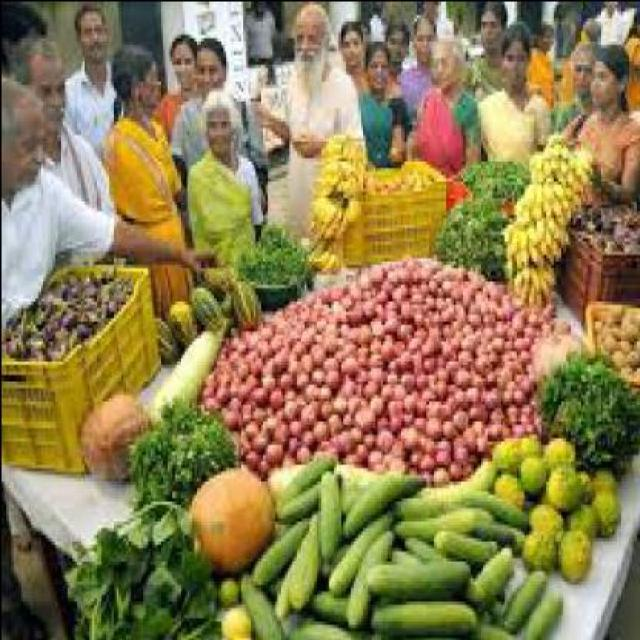BIODEGRADABLE: (66, 493, 220, 636), (200, 327, 349, 450), (511, 123, 594, 300), (396, 310, 496, 447), (401, 333, 542, 427), (542, 343, 638, 472), (129, 396, 240, 504), (342, 299, 418, 450), (147, 303, 230, 426), (190, 460, 276, 574), (149, 310, 229, 424), (320, 280, 369, 446), (394, 480, 532, 529), (81, 387, 147, 479), (347, 463, 427, 537), (440, 194, 511, 277), (329, 504, 394, 593), (406, 529, 486, 600), (274, 503, 320, 617), (416, 267, 506, 324), (234, 216, 308, 284), (339, 280, 447, 326), (366, 557, 474, 600), (372, 594, 479, 637), (588, 297, 638, 383), (255, 510, 310, 587), (311, 153, 366, 227), (275, 443, 340, 503), (498, 296, 572, 347), (371, 257, 449, 300), (576, 198, 638, 252), (503, 566, 549, 634), (398, 506, 488, 540), (434, 517, 500, 563), (240, 573, 288, 636), (474, 533, 515, 604), (288, 606, 372, 637), (464, 153, 528, 190), (310, 184, 352, 236), (318, 464, 342, 553), (318, 130, 367, 173), (442, 450, 498, 487), (276, 477, 322, 520), (524, 587, 564, 636), (473, 517, 525, 554), (547, 457, 584, 509), (367, 166, 435, 194), (435, 526, 493, 557), (559, 524, 593, 576), (308, 583, 352, 623), (268, 457, 308, 497), (274, 293, 320, 327), (530, 497, 567, 537), (234, 274, 264, 323), (193, 284, 224, 330), (526, 527, 560, 567), (530, 330, 564, 370), (291, 617, 357, 637), (322, 530, 352, 573), (498, 463, 530, 503), (592, 483, 620, 526), (171, 297, 195, 346), (520, 453, 549, 490), (570, 497, 598, 534), (345, 470, 369, 513), (222, 603, 252, 637), (494, 430, 524, 464), (159, 307, 178, 359), (310, 243, 344, 271), (546, 433, 576, 464), (206, 263, 234, 294), (577, 460, 598, 497), (554, 327, 581, 350), (523, 426, 545, 454), (223, 569, 242, 600), (393, 540, 422, 560), (482, 620, 516, 637), (423, 329, 442, 357), (432, 459, 450, 487), (400, 419, 418, 447), (357, 399, 375, 427), (295, 437, 320, 457), (398, 343, 416, 366), (340, 424, 357, 447), (257, 450, 274, 473), (272, 433, 288, 456), (242, 444, 258, 467), (456, 437, 472, 460), (390, 447, 408, 467), (345, 447, 366, 464), (420, 444, 435, 467), (283, 447, 299, 467), (248, 433, 264, 453), (429, 413, 445, 433), (341, 373, 357, 393), (302, 347, 318, 367), (434, 443, 452, 460), (234, 423, 249, 443), (444, 413, 459, 433), (344, 350, 359, 370), (451, 453, 464, 476), (369, 440, 386, 457), (249, 417, 262, 437), (405, 440, 418, 457), (598, 464, 616, 476), (327, 431, 342, 443), (359, 436, 368, 453), (421, 410, 430, 427), (469, 450, 476, 470), (320, 434, 329, 443)
